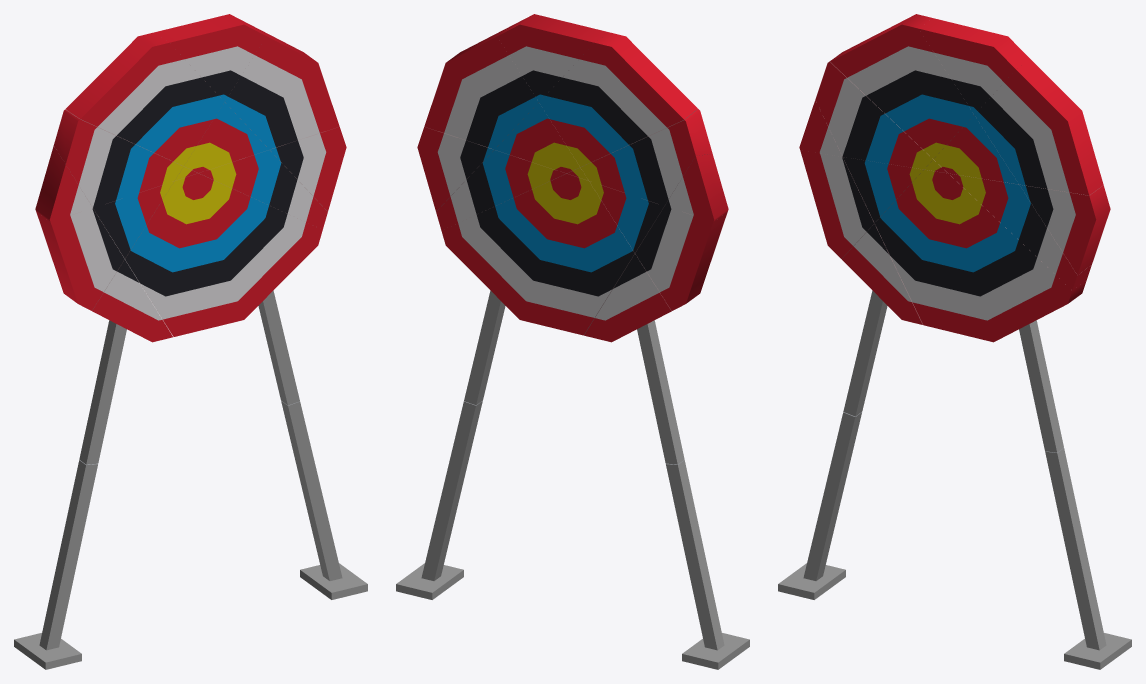
Rendered from target_fractured (1).fbx.
3 renders of one model, left to right at view 1: azimuth 30°, elevation 25°; view 2: azimuth 150°, elevation 25°; view 3: azimuth 330°, elevation 25°, orthographic.
Visible parts, largest first — view 1: Target.008, Target.003, Target.001, Target.004, Target.006, Stand.001_cell, Target.002, Stand_cell, Target.011, Target.009, Target.007, Target.012 (+4 smaller); view 2: Target.008, Target.003, Target.001, Target.004, Target.006, Stand.001_cell, Target.002, Stand_cell, Target.011, Target.007, Target.009, Target.012 (+4 smaller); view 3: Target.008, Target.001, Target.003, Target.004, Stand_cell, Target.002, Stand.001_cell, Target.011, Target.006, Target.009, Target.007, Target.012 (+4 smaller).
Part boxes in pixels (<box>): Target.008: <box>125,173,322,336</box>; Target.003: <box>65,32,224,166</box>; Target.001: <box>225,26,339,149</box>; Target.004: <box>53,109,183,207</box>; Target.006: <box>36,208,124,310</box>; Stand.001_cell: <box>14,460,97,669</box>; Target.002: <box>155,14,266,101</box>; Stand_cell: <box>281,400,367,599</box>; Target.011: <box>199,150,327,229</box>; Target.009: <box>269,126,346,211</box>; Target.007: <box>92,259,172,342</box>; Target.012: <box>184,102,269,172</box>; Target.008: <box>441,173,634,335</box>; Target.003: <box>539,32,697,166</box>; Target.001: <box>424,26,538,149</box>; Target.004: <box>580,109,712,205</box>; Target.006: <box>635,206,727,310</box>; Stand.001_cell: <box>666,460,749,669</box>; Target.002: <box>497,14,608,101</box>; Stand_cell: <box>396,401,482,599</box>; Target.011: <box>436,150,565,230</box>; Target.007: <box>584,254,671,342</box>; Target.009: <box>417,126,494,211</box>; Target.012: <box>494,103,579,173</box>; Target.008: <box>874,169,1086,342</box>; Target.001: <box>974,59,1103,195</box>; Target.003: <box>830,14,973,158</box>; Target.004: <box>815,52,933,169</box>; Stand_cell: <box>1045,448,1131,669</box>; Target.002: <box>919,18,1030,114</box>; Stand.001_cell: <box>778,412,861,599</box>; Target.011: <box>949,173,1091,290</box>; Target.006: <box>800,150,874,258</box>; Target.009: <box>1019,184,1110,274</box>; Target.007: <box>841,224,922,324</box>; Target.012: <box>933,115,1018,184</box>.
Size of the model in its own units: 151 by 263 by 25.61.
Materials: 3 (2 with a texture image).
